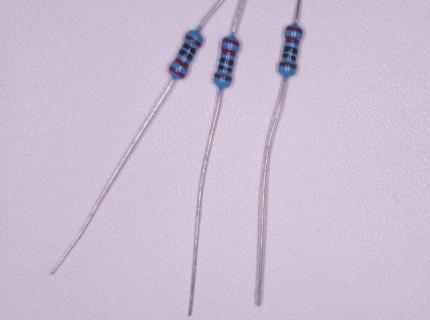Red band: (169, 66, 186, 79), (174, 58, 189, 70), (221, 47, 236, 57), (223, 38, 239, 47), (286, 26, 303, 34), (286, 36, 300, 45)
